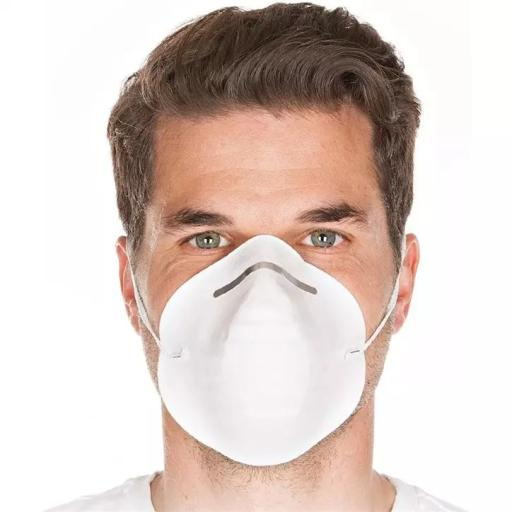mask: (128, 238, 398, 468)
